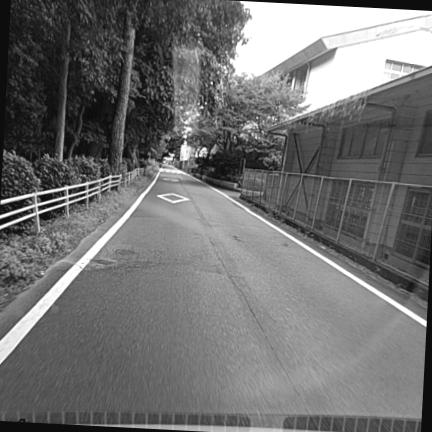Road: (0, 169, 425, 417)
